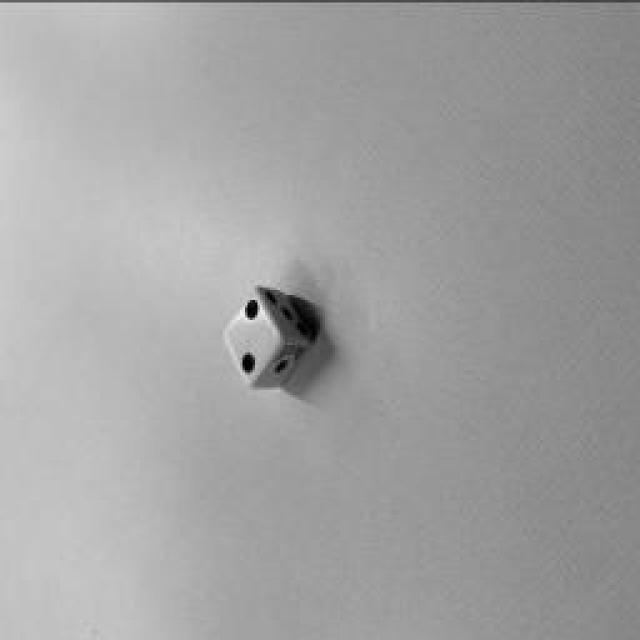dice_2: (224, 287, 281, 385)
